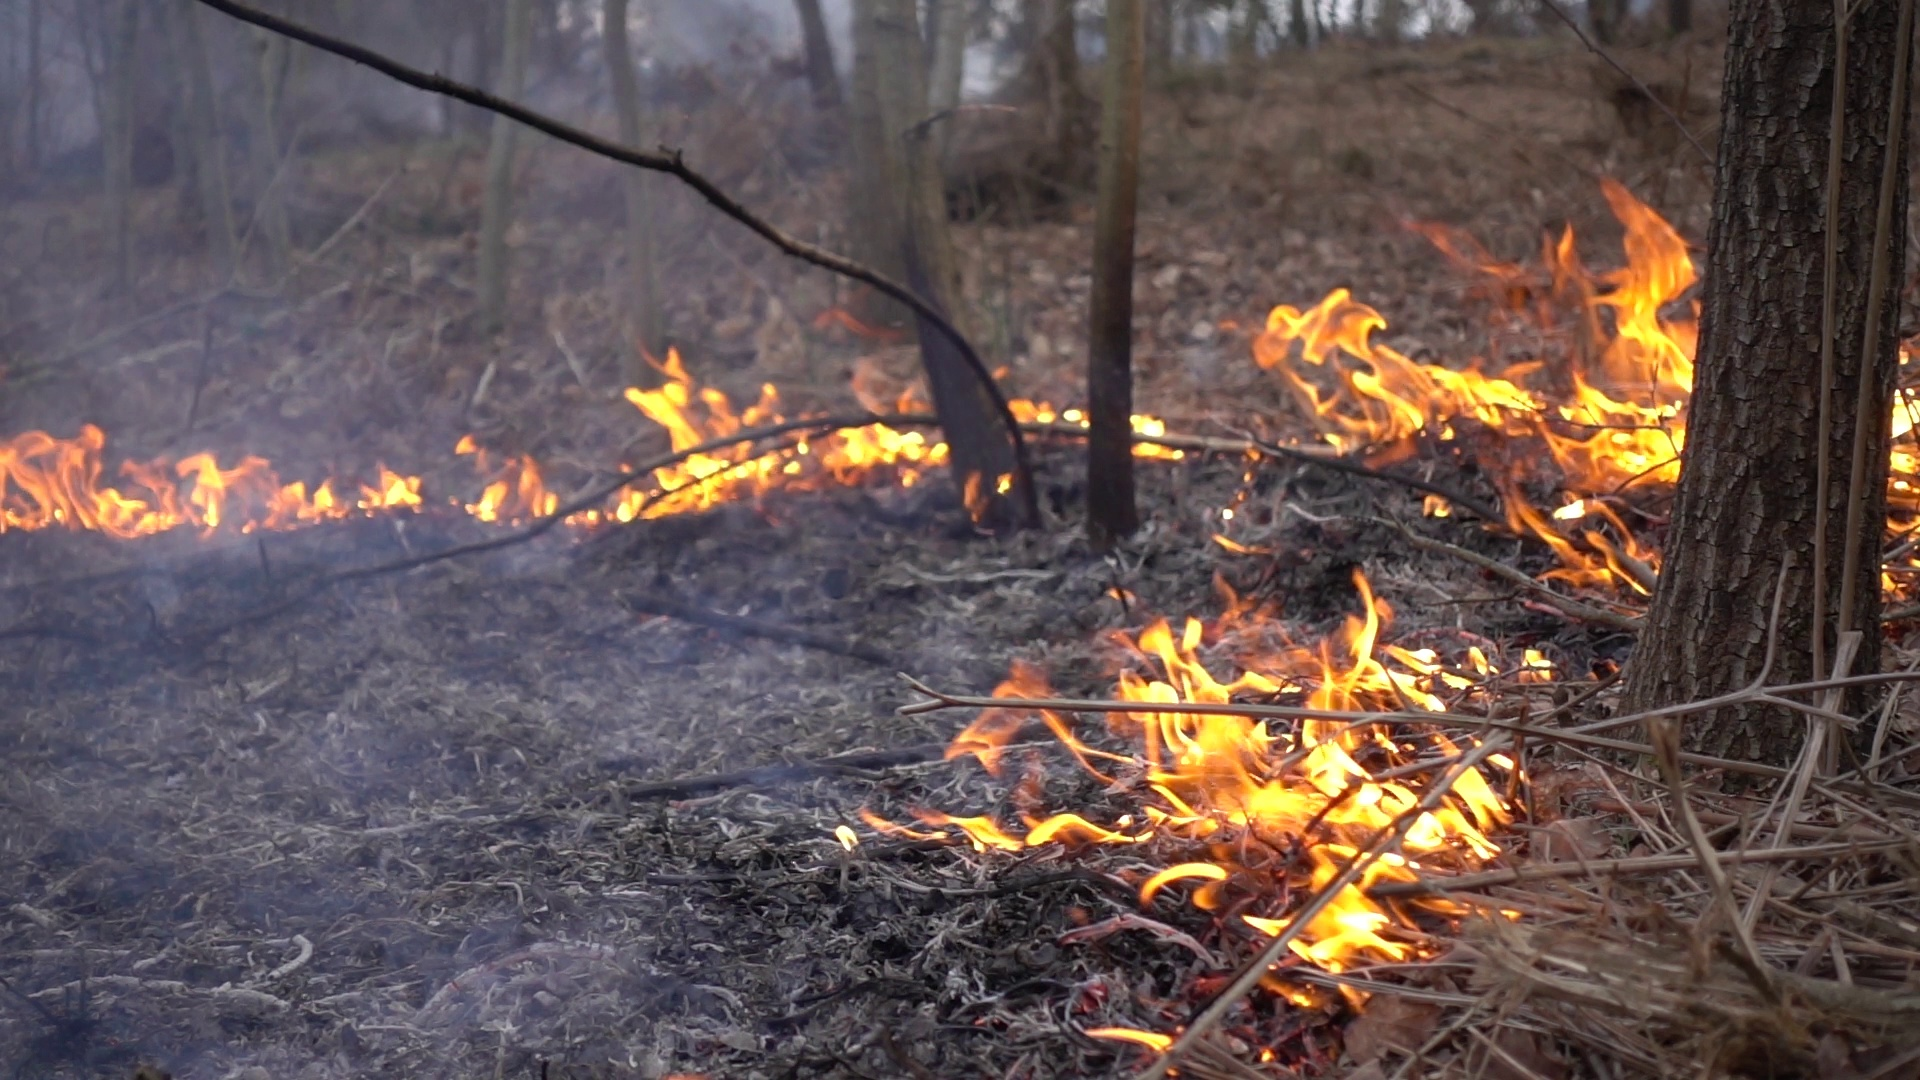fire: (951, 582, 1531, 992), (1262, 193, 1687, 483), (632, 342, 931, 513), (7, 419, 309, 530), (454, 454, 554, 524), (1887, 385, 1919, 521), (360, 469, 425, 516)
